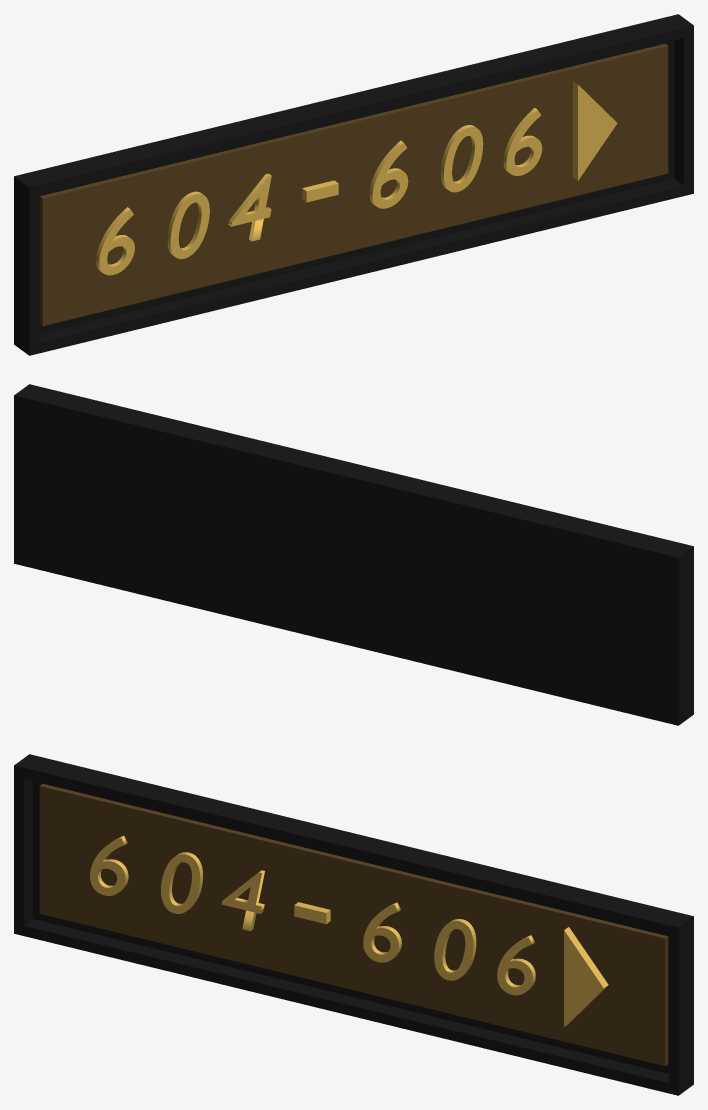
The model's file is Sign604_606.fbx.
3 views of the same model, one above another, from view 1: azimuth 30°, elevation 25°; view 2: azimuth 150°, elevation 25°; view 3: azimuth 330°, elevation 25° (orthographic).
Visible parts, largest first — view 1: sign604_606; view 2: sign604_606; view 3: sign604_606.
Boxes of the visible parts, left/top/right/bottom form: sign604_606: left=14, top=14, right=693, bottom=355; sign604_606: left=14, top=384, right=693, bottom=725; sign604_606: left=14, top=754, right=693, bottom=1095.
Bounding box in the file's own units: 124 × 30 × 5.
